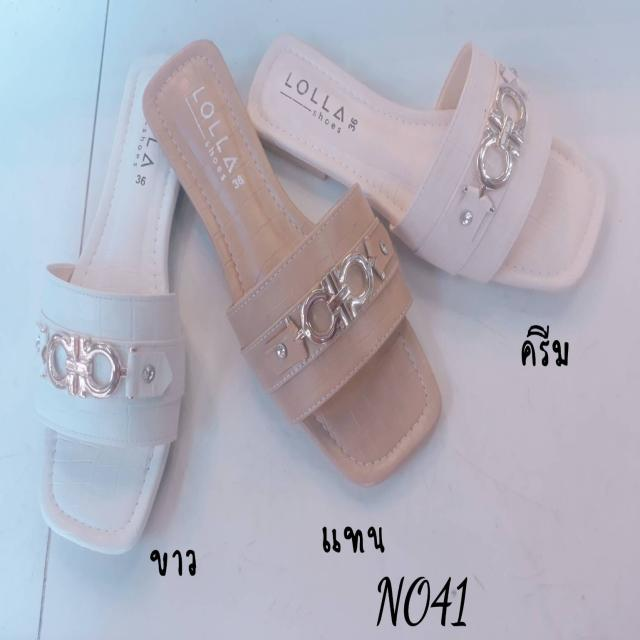cream: (250, 34, 604, 292)
tan: (158, 44, 439, 475)
white: (44, 80, 184, 544)
